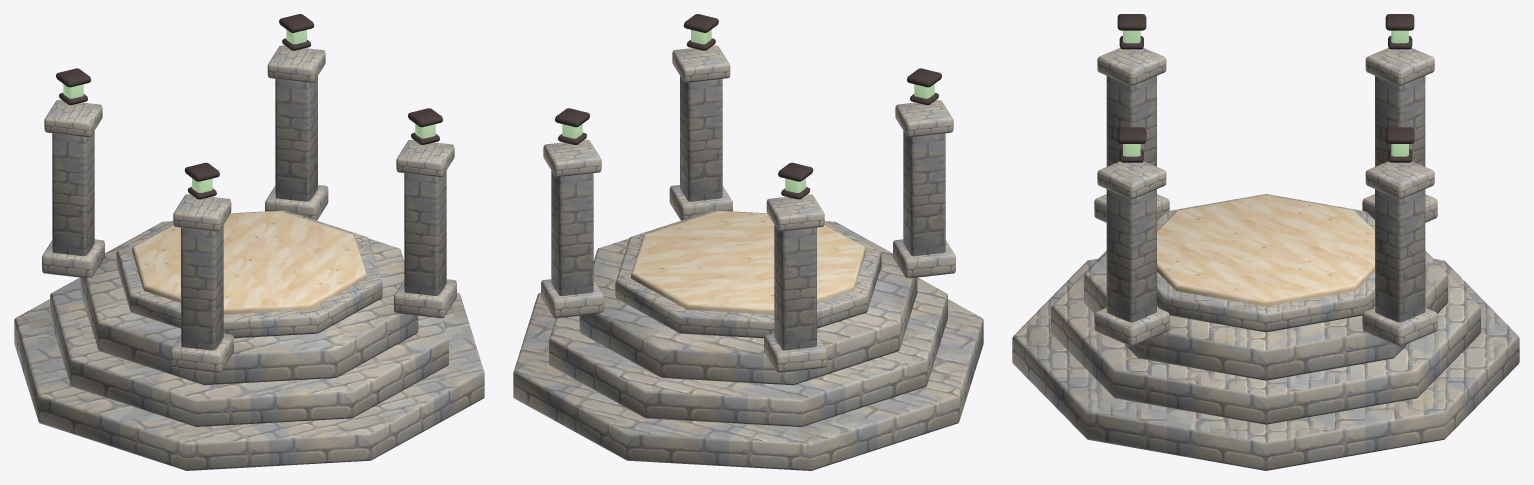
Rendered from shrine_pedestal.gltf.
3 renders of one model, left to right at view 1: azimuth 30°, elevation 25°; view 2: azimuth 150°, elevation 25°; view 3: azimuth 270°, elevation 25°, orthographic. The views are drawn at different scales.
Parts seen in each view (by area): view 1: shrine_pedestal; view 2: shrine_pedestal; view 3: shrine_pedestal.
Part boxes in pixels (bbox=[...]): shrine_pedestal: bbox=[14, 14, 484, 470]; shrine_pedestal: bbox=[513, 14, 983, 470]; shrine_pedestal: bbox=[1012, 14, 1519, 470].
Size of the model in its own units: 4.6 by 2.9 by 4.6.
4 materials, 4 textured.
